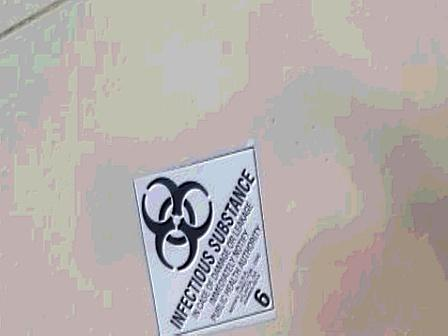infectious-substance: (131, 144, 274, 336)
